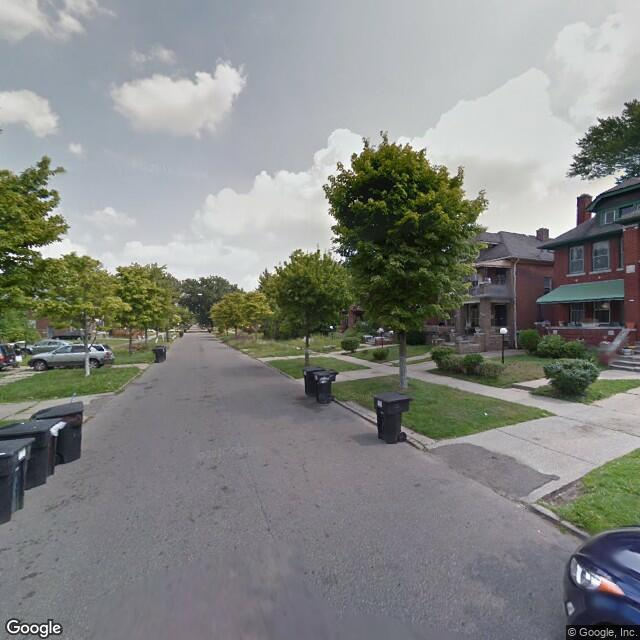litter: (478, 410, 491, 417)
